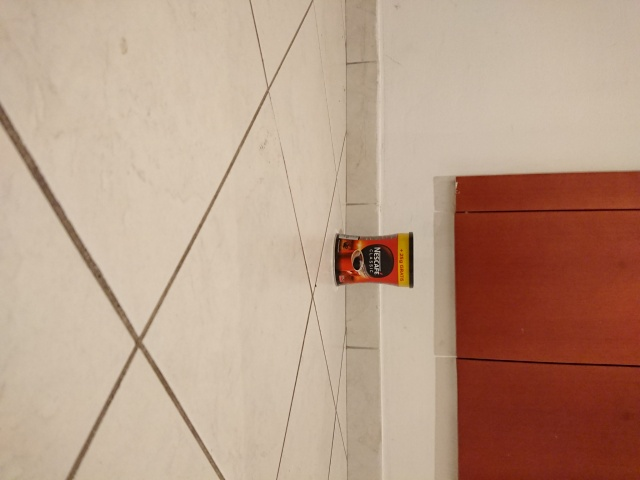Nescafe Classic 225g: (331, 229, 417, 291)
